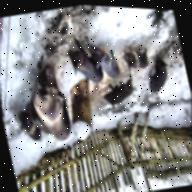boar: (30, 56, 78, 155), (102, 66, 147, 117), (88, 37, 126, 95), (66, 41, 98, 103), (138, 44, 172, 98), (16, 98, 43, 160), (122, 46, 146, 80), (135, 47, 161, 75)
